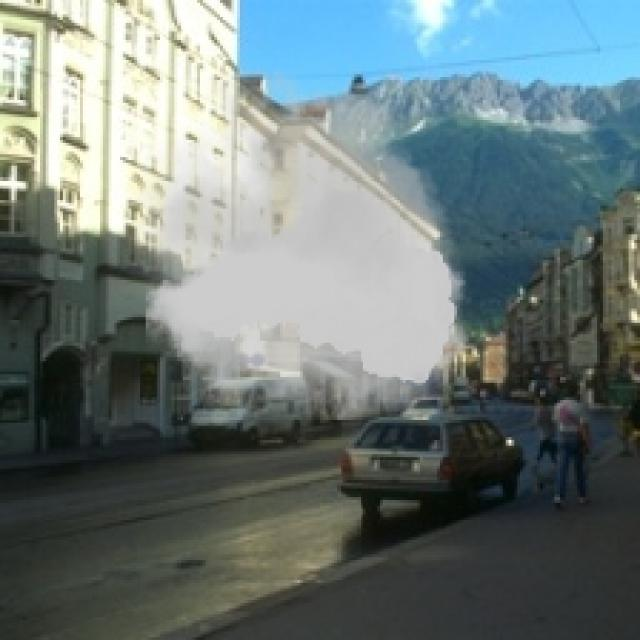Smoke: (123, 46, 480, 452)
